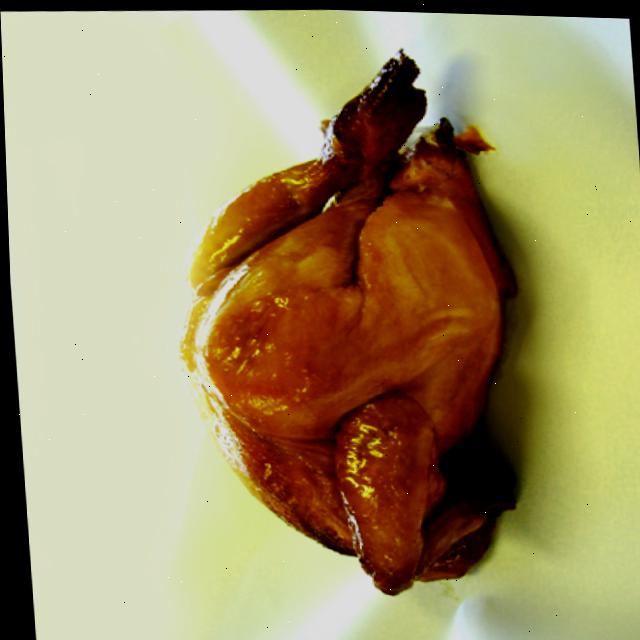鸡肉料理 含炸鸡: (144, 35, 547, 604)
